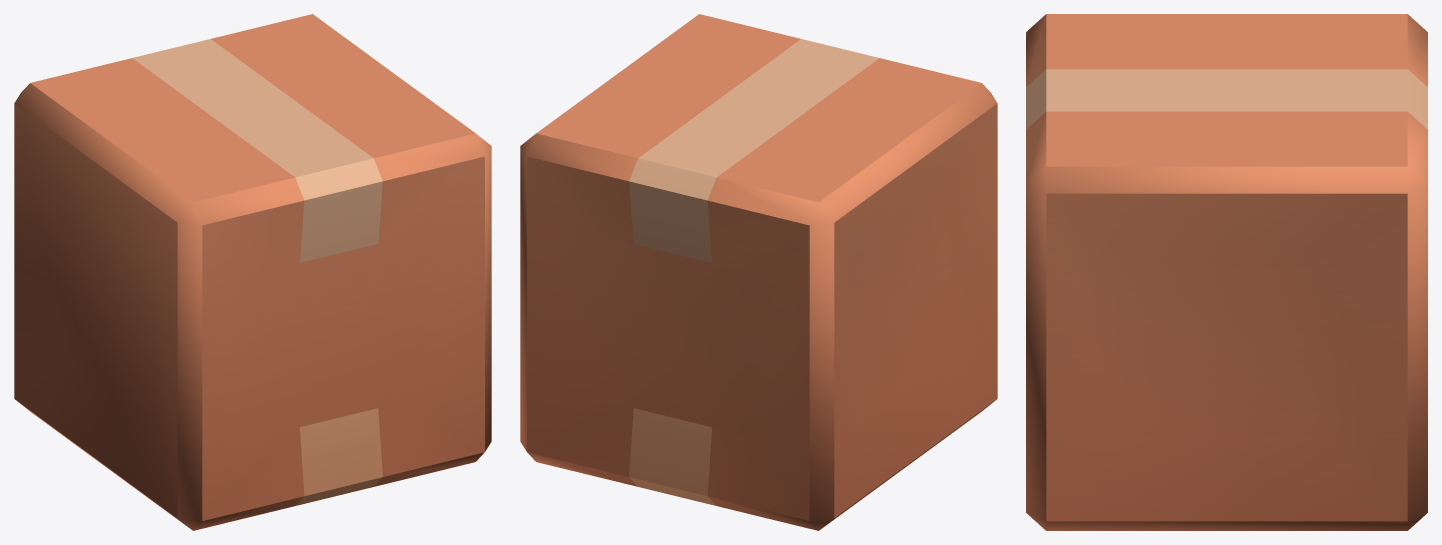
The model's file is crate.glb.
3 views of the same model, side by side, from view 1: azimuth 30°, elevation 25°; view 2: azimuth 150°, elevation 25°; view 3: azimuth 270°, elevation 25° (orthographic). The views are drawn at different scales.
Parts seen in each view (by area): view 1: box; view 2: box; view 3: box.
Part boxes in pixels (bbox=[...]): box: bbox=[14, 14, 491, 530]; box: bbox=[520, 14, 997, 530]; box: bbox=[1026, 14, 1427, 530].
Bounding box in the file's own units: 1.25 × 1.25 × 1.25.
Materials: 1 (1 with a texture image).
